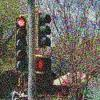traffic lights: (15, 15, 28, 75), (38, 10, 53, 49), (34, 55, 52, 75)
